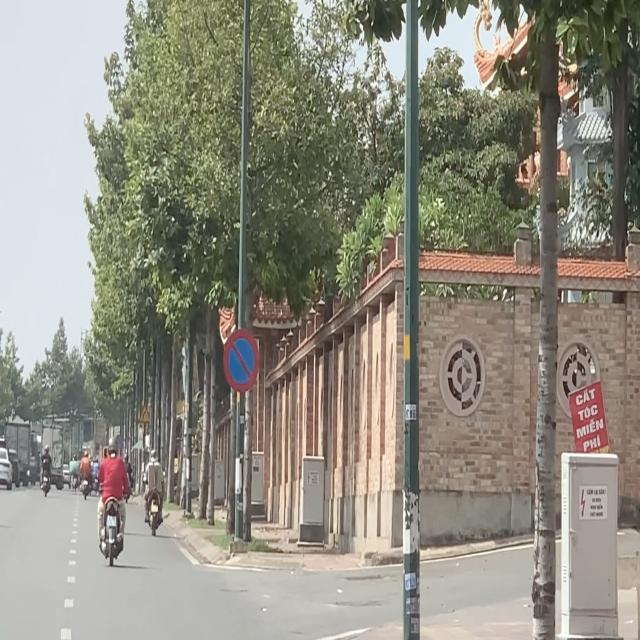Cam do: (222, 327, 260, 394)
Nguy hiem: (139, 404, 150, 423)
